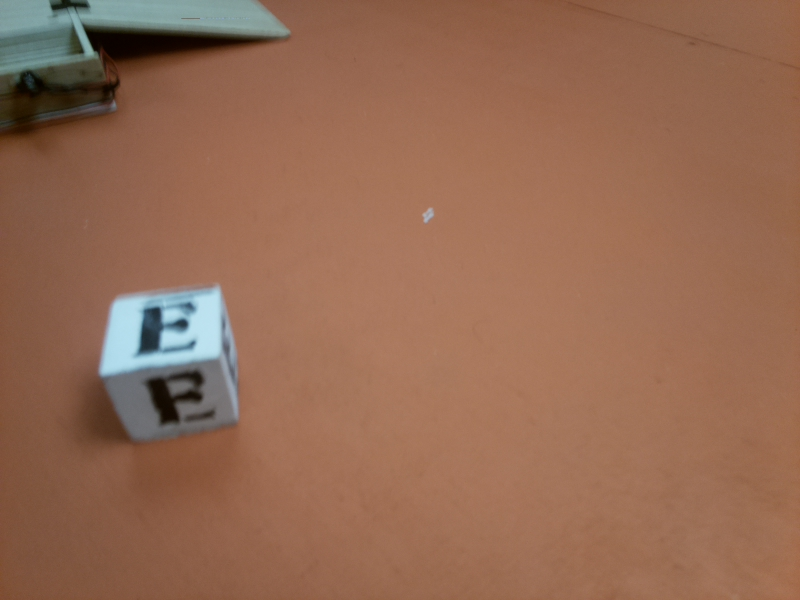blockE: (101, 282, 251, 444)
side: (2, 30, 118, 132)
slope: (79, 1, 310, 47)
